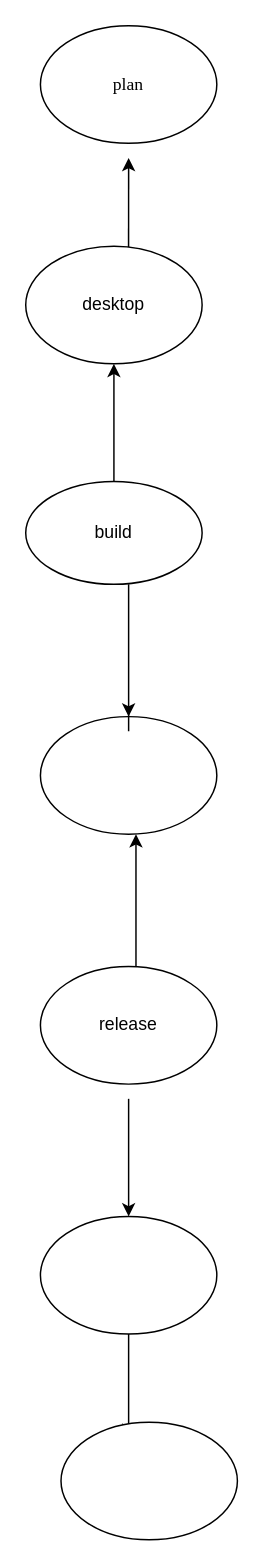
Some shapes in this 263 by 1566 pixel diagram are drawn without their labels. The centre of each missing label's shape, as x and y in pixels:
"deploy" belongs at (x=128, y=1274).
"test" belongs at (x=128, y=774).
